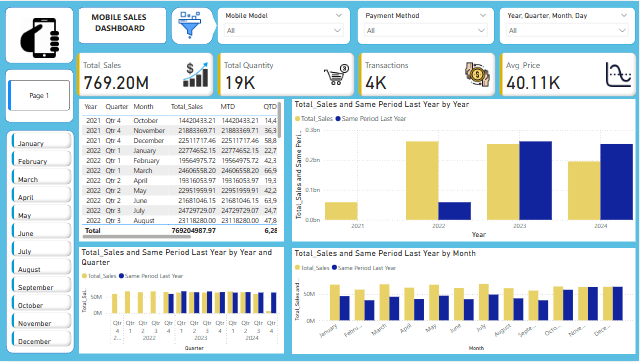

What the dashboard file says about the page in this screenshot:
{"tool":"powerbi","page":{"name":"Page 1","canvas":[1280,720],"ordinal":0},"visuals":[{"type":"shape","box":[6.7,12.2,136.7,134.4],"z":0},{"type":"shape","box":[13.3,163.3,136.7,80],"z":1000},{"type":"shape","box":[13.3,258.3,136.7,446.7],"z":2000},{"type":"advancedSlicerVisual","fields":{"Values":["Custom_Calender.Date.Variation.Date Hierarchy.Month"]},"box":[20,258.3,130,446.7],"z":3000},{"type":"cardVisual","fields":{"Data":["Sales_data.Total_Sales","Sales_data.Total Quantity","Sales_data.Transactions","Sales_data.Avg_Price"]},"box":[150,98,1130,98],"z":4000},{"type":"slicer","fields":{"Values":["Sales_data.Mobile Model"]},"box":[436.7,11.7,266.7,75],"z":5000},{"type":"slicer","fields":{"Values":["Custom_Calender.Date.Variation.Date Hierarchy.Year","Custom_Calender.Date.Variation.Date Hierarchy.Quarter","Custom_Calender.Date.Variation.Date Hierarchy.Month","Custom_Calender.Date.Variation.Date Hierarchy.Day"]},"box":[999,12,273,75],"z":6000},{"type":"slicer","fields":{"Values":["Sales_data.Payment Method"]},"box":[715,11.7,275,75],"z":7000},{"type":"shape","box":[343.6,11.8,84.5,75.5],"z":8000},{"type":"image","box":[343.6,16.8,74.1,64.5],"z":9000},{"type":"shape","box":[406.7,16.7,30,66.7],"z":10000},{"type":"shape","box":[160,12.5,175,73.8],"z":11000},{"type":"textbox","box":[160,16.7,163.3,65],"z":12000},{"type":"lineChart","fields":{"Category":["Custom_Calender.Date.Variation.Date Hierarchy.Month"],"Y":["Sales_data.Total Quantity"]},"box":[436.7,195.6,835.6,181.1],"z":13000},{"type":"funnel","title":"Customer Ratings by Rating_Status","fields":{"Category":["Sales_data.Rating_Status","Sales_data.Customer Ratings"],"Y":["CountNonNull(Sales_data.Customer Ratings)"]},"box":[436.7,388.3,418.3,166.7],"z":14000},{"type":"pieChart","fields":{"Category":["Sales_data.Payment Method"],"Y":["Sales_data.Transactions"]},"box":[866.7,388.3,405,166.7],"z":15000},{"type":"clusteredBarChart","fields":{"Category":["Sales_data.Mobile Model"],"Y":["Sales_data.Total_Sales"]},"box":[437,563,416,150],"z":16000},{"type":"areaChart","fields":{"Category":["Custom_Calender.Day Name"],"Y":["Sales_data.Total_Sales"]},"box":[864,564,408,150],"z":17000},{"type":"tableEx","fields":{"Values":["Sales_data.Brand","Sales_data.Total_Sales","Sales_data.Transactions"]},"box":[160,555,267.5,150],"z":18000},{"type":"tableEx","fields":{"Values":["Custom_Calender.Date.Variation.Date Hierarchy.Year","Custom_Calender.Date.Variation.Date Hierarchy.Quarter","Custom_Calender.Date.Variation.Date Hierarchy.Month","Custom_Calender.Date.Variation.Date Hierarchy.Day","Sales_data.MTD","Sales_data.QTD","Sales_data.YTD"]},"box":[486,98,52,36],"z":19000},{"type":"pageNavigator","box":[20,171.7,123.3,61.7],"z":20000},{"type":"image","box":[20,12.2,123.3,123.3],"z":21000},{"type":"pieChart","fields":{"Category":["Sales_data.City"],"Y":["Sales_data.Total_Sales"]},"box":[160,204,268,330],"z":22000}]}

Visuals, with their boxes on the page's 1280x720 design canvas (x1, y1, x2, y2). These are canvas units, not pixel positions in the 640x362 screenshot, which may show the page scaled, cropped or inside an application window:
shape: rect(7, 12, 143, 147)
shape: rect(13, 163, 150, 243)
shape: rect(13, 258, 150, 705)
advancedSlicerVisual - Custom_Calender.Date.Variation.Date Hierarchy.Month: rect(20, 258, 150, 705)
cardVisual - Sales_data.Total_Sales x Sales_data.Total Quantity: rect(150, 98, 1280, 196)
slicer - Sales_data.Mobile Model: rect(437, 12, 703, 87)
slicer - Custom_Calender.Date.Variation.Date Hierarchy.Year x Custom_Calender.Date.Variation.Date Hierarchy.Quarter: rect(999, 12, 1272, 87)
slicer - Sales_data.Payment Method: rect(715, 12, 990, 87)
shape: rect(344, 12, 428, 87)
image: rect(344, 17, 418, 81)
shape: rect(407, 17, 437, 83)
shape: rect(160, 12, 335, 86)
textbox: rect(160, 17, 323, 82)
lineChart - Custom_Calender.Date.Variation.Date Hierarchy.Month x Sales_data.Total Quantity: rect(437, 196, 1272, 377)
"Customer Ratings by Rating_Status" funnel: rect(437, 388, 855, 555)
pieChart - Sales_data.Payment Method x Sales_data.Transactions: rect(867, 388, 1272, 555)
clusteredBarChart - Sales_data.Mobile Model x Sales_data.Total_Sales: rect(437, 563, 853, 713)
areaChart - Custom_Calender.Day Name x Sales_data.Total_Sales: rect(864, 564, 1272, 714)
tableEx - Sales_data.Brand x Sales_data.Total_Sales: rect(160, 555, 428, 705)
tableEx - Custom_Calender.Date.Variation.Date Hierarchy.Year x Custom_Calender.Date.Variation.Date Hierarchy.Quarter: rect(486, 98, 538, 134)
pageNavigator: rect(20, 172, 143, 233)
image: rect(20, 12, 143, 136)
pieChart - Sales_data.City x Sales_data.Total_Sales: rect(160, 204, 428, 534)
